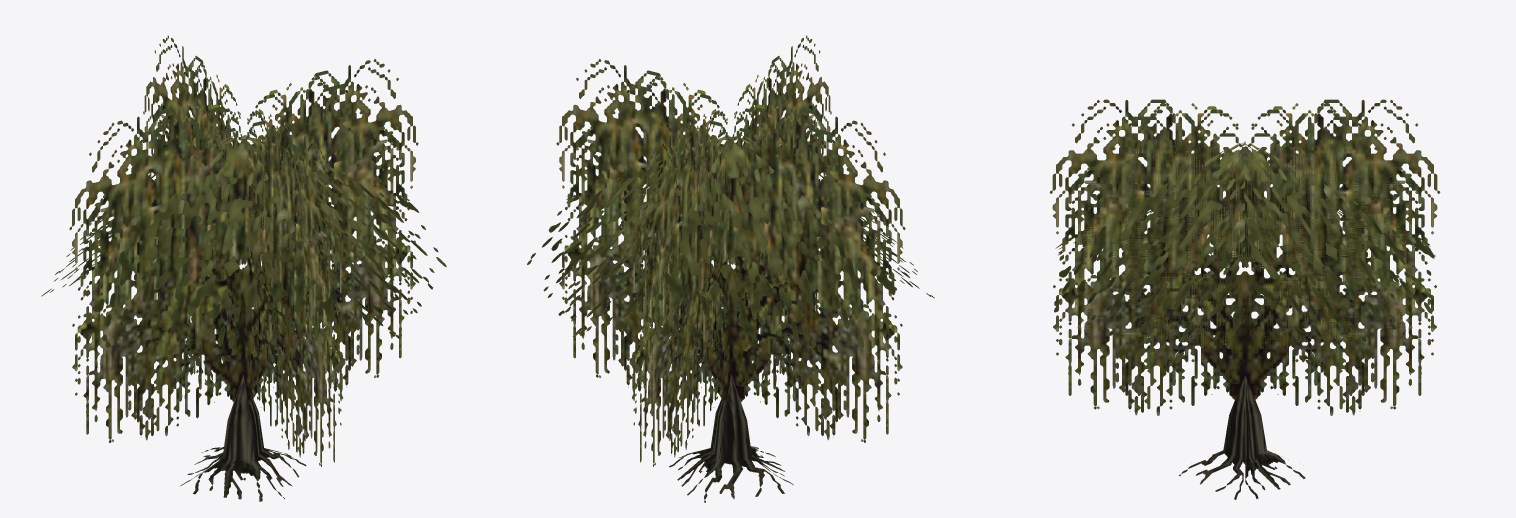
Rendered from willow2.glb.
The picture shows the model from 3 angles, left to right: view 1: azimuth 30°, elevation 25°; view 2: azimuth 150°, elevation 25°; view 3: azimuth 270°, elevation 25°; orthographic projection. The views are drawn at different scales.
Parts seen in each view (by area): view 1: willow; view 2: willow; view 3: willow.
Part boxes in pixels (x1,y1,x2,y2): willow: [41, 35, 446, 501]; willow: [527, 35, 934, 502]; willow: [1049, 99, 1440, 499].
Size of the model in its own units: 15.23 by 12.23 by 15.23.
1 material, 1 textured.
